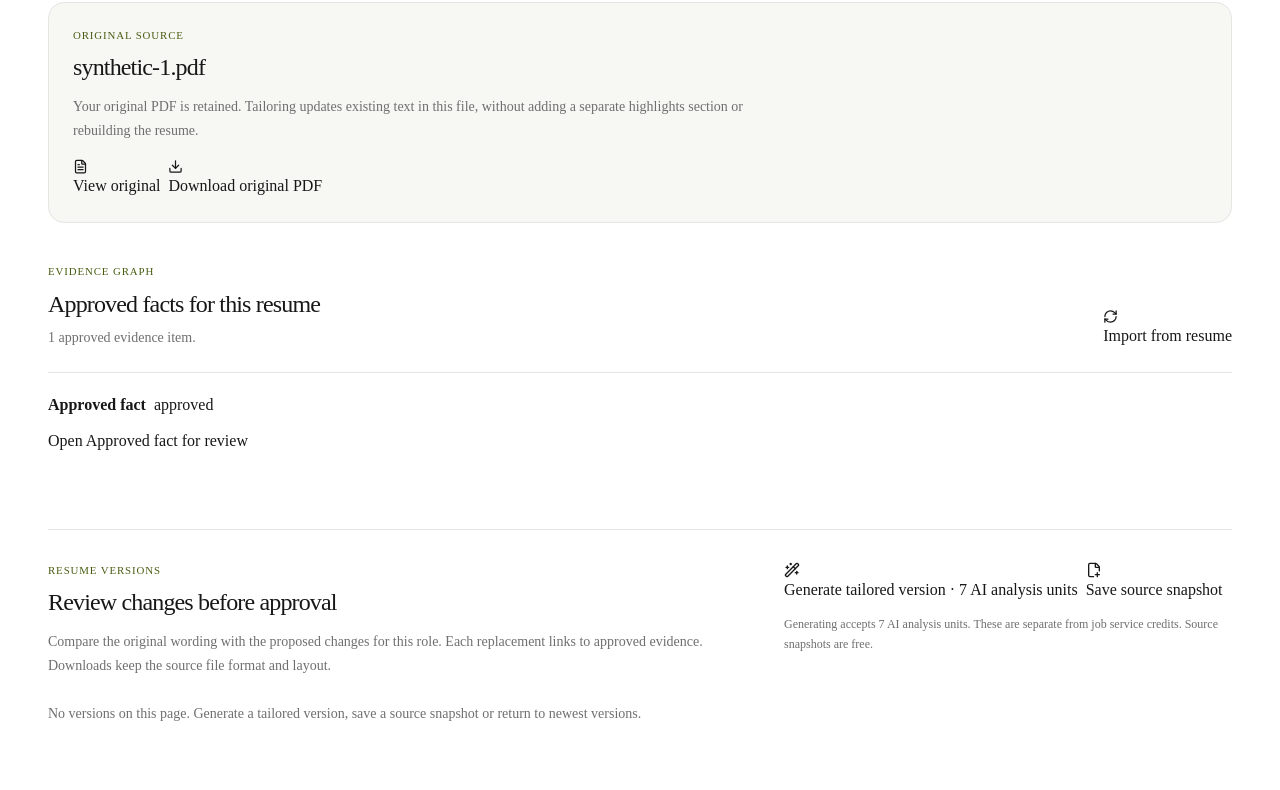
freezes source and evidence versions for an explicit correction, preserving draft and locking after conflict
This screenshot has width=1280, height=790.
Later steps or results of the test are not shown.
(page scrolled)
Click the button "Open Approved fact for review": (148, 441) [48,429,248,453]
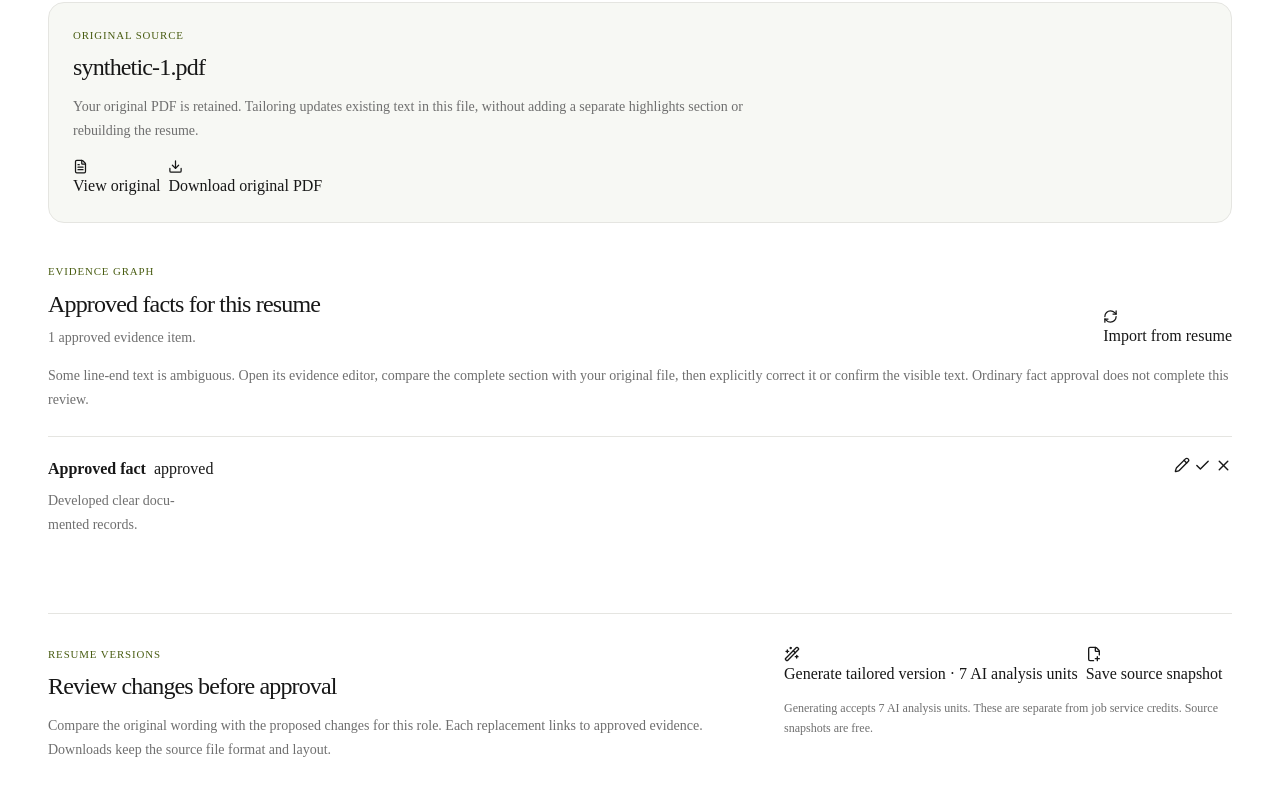
Result: the button named "Edit evidence" is shown at [1174,457,1190,473]
Result: the text "Some line-end text is ambiguous" is shown at [48,368,1228,407]
